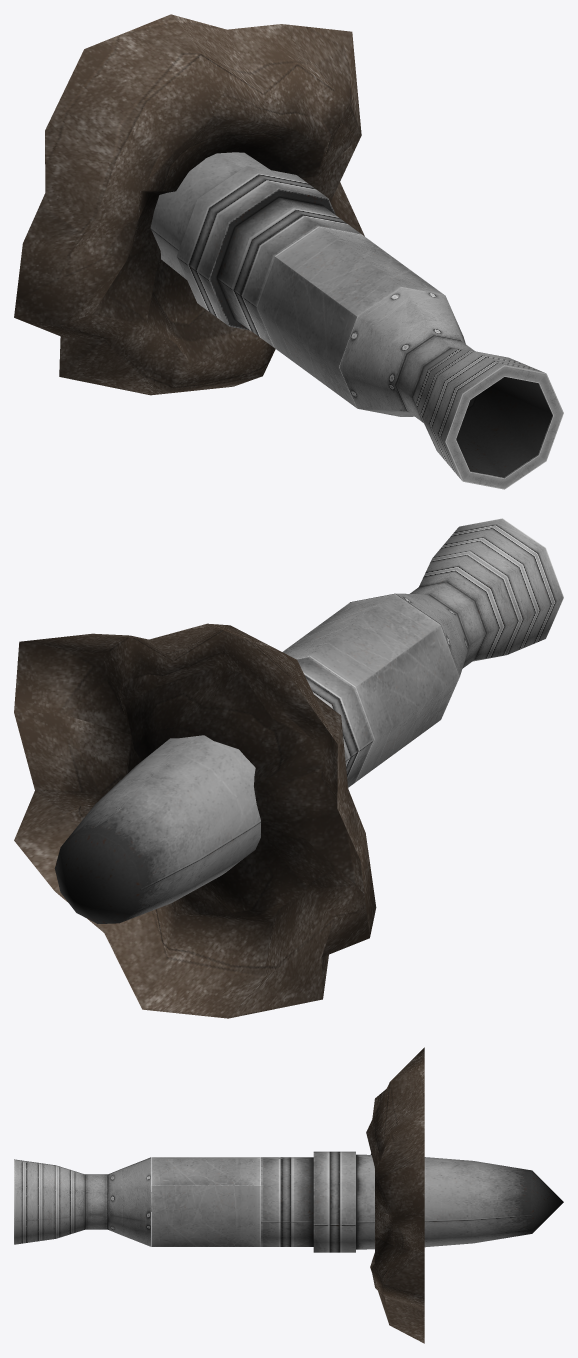
Rendered from Beacon.FBX.
3 renders of one model, top to bottom at view 1: azimuth 30°, elevation 25°; view 2: azimuth 150°, elevation 25°; view 3: azimuth 270°, elevation 25°, orthographic. The views are drawn at different scales.
Visible parts, largest first — view 1: dirt, rocket, base, flap4, flap3; view 2: dirt, base, rocket, flap4, flap3; view 3: base, dirt, rocket, flap2, flap3.
Boxes of the visible parts, left/top/right/bottom form: dirt: left=14, top=14, right=364, bottom=395; rocket: left=339, top=287, right=563, bottom=489; base: left=150, top=152, right=361, bottom=347; flap4: left=256, top=256, right=357, bottom=408; flap3: left=275, top=226, right=443, bottom=316; dirt: left=14, top=623, right=376, bottom=1018; base: left=54, top=657, right=373, bottom=923; rocket: left=350, top=518, right=563, bottom=718; flap4: left=355, top=625, right=459, bottom=782; flap3: left=282, top=594, right=440, bottom=687; base: left=261, top=1151, right=563, bottom=1252; dirt: left=366, top=1047, right=424, bottom=1343; rocket: left=14, top=1157, right=150, bottom=1246; flap2: left=151, top=1186, right=260, bottom=1246; flap3: left=151, top=1157, right=260, bottom=1185.
Bounding box in the file's own units: 22.57 × 24.34 × 47.16.
1 material, 1 textured.
